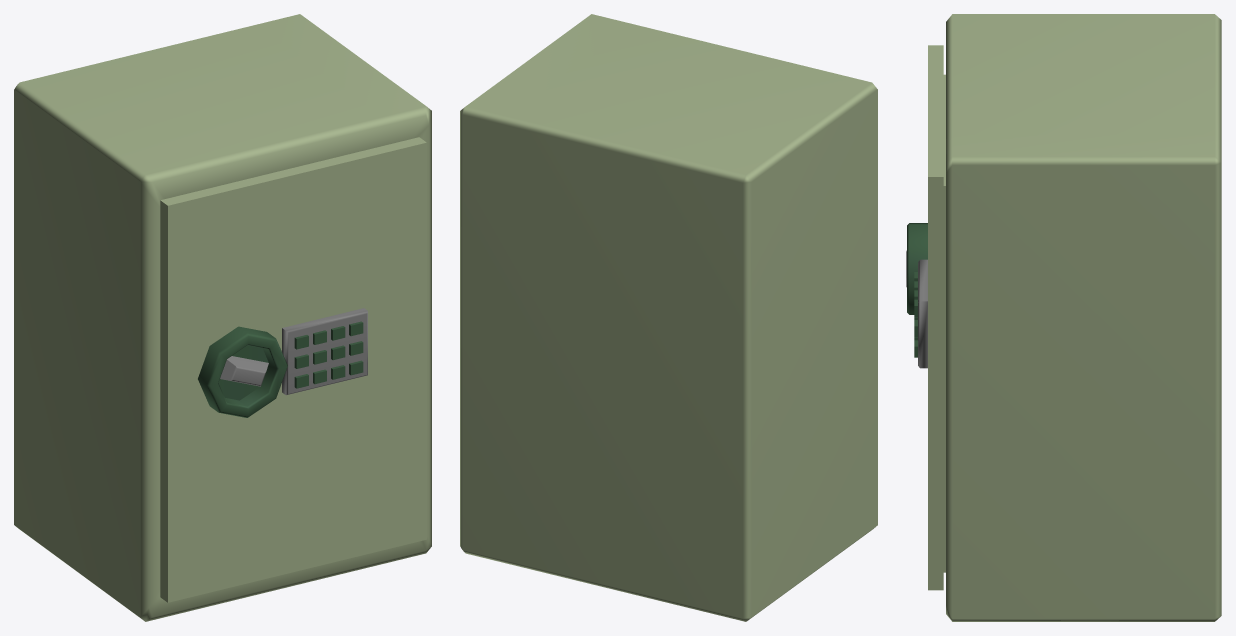
File: SM_Safe_Base.fbx
3 views of the same model, side by side, from view 1: azimuth 30°, elevation 25°; view 2: azimuth 150°, elevation 25°; view 3: azimuth 270°, elevation 25° (orthographic). The views are drawn at different scales.
Parts seen in each view (by area): view 1: SM_Safe, SM_Safe_Door_02; view 2: SM_Safe; view 3: SM_Safe, SM_Safe_Door_02.
Boxes of the visible parts, x1,y1,x2,y2 form: SM_Safe: (14,14,431,621); SM_Safe_Door_02: (160,137,426,602); SM_Safe: (460,14,877,621); SM_Safe: (946,14,1221,621); SM_Safe_Door_02: (906,45,945,590).
Bounding box in the file's own units: 48.66 × 71.27 × 43.78.
Materials: 1 (1 with a texture image).
